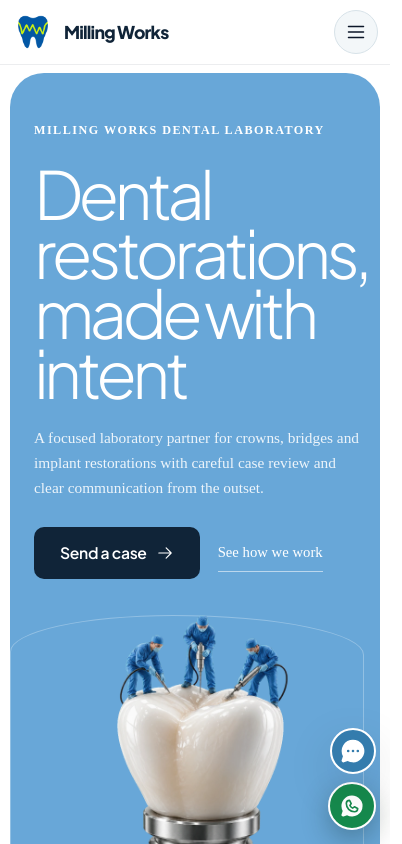
Test: HomePage › exposes a keyboard-operable mobile navigation toggle
Step 1. Click the button named "Open menu" → (356, 32), box [334, 10, 378, 54]
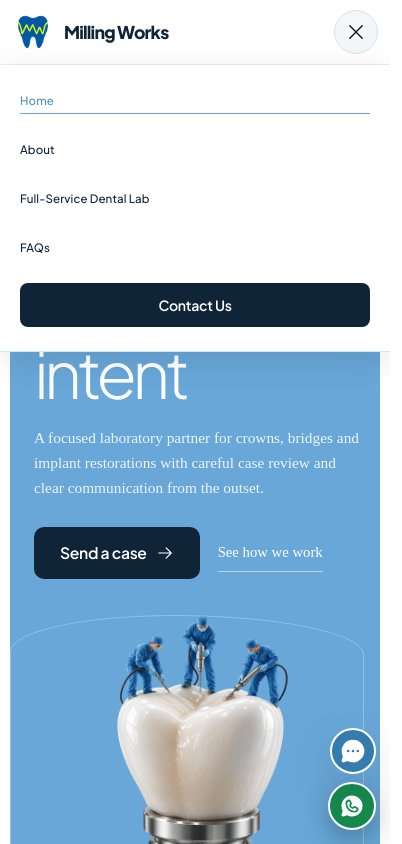
Expected: the button named "Open menu" is expanded, [334, 10, 378, 54]
